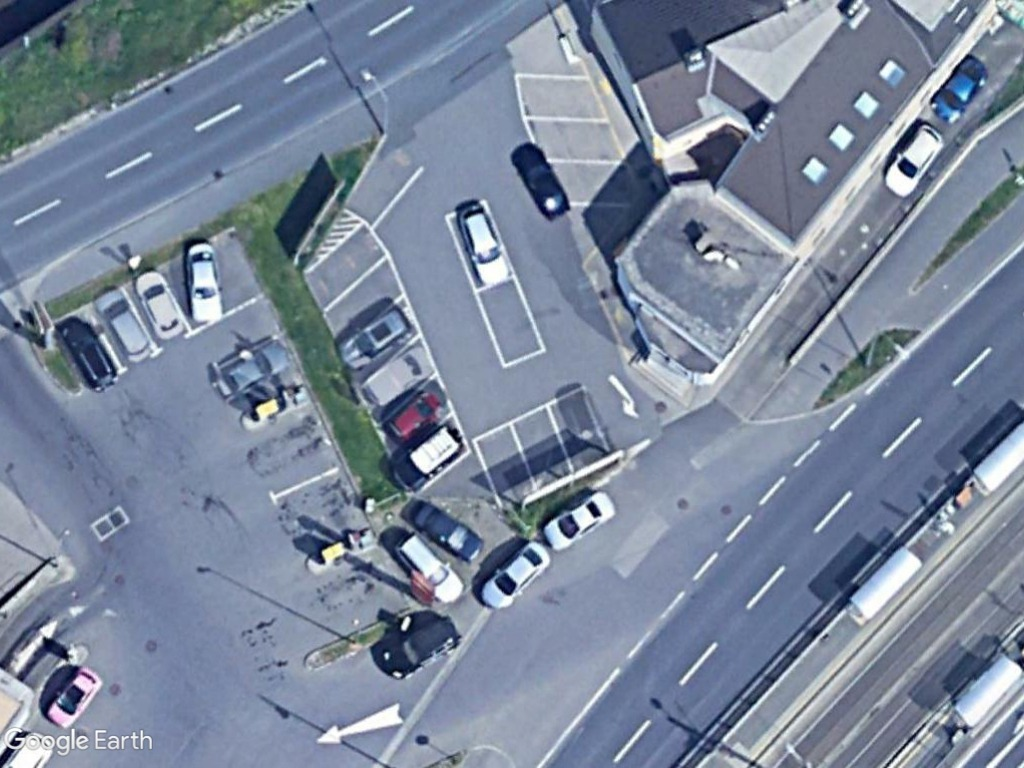car: (378, 614, 468, 680), (388, 423, 468, 495), (389, 534, 466, 606), (336, 303, 416, 372), (508, 144, 573, 227), (477, 537, 549, 611), (880, 120, 944, 200), (456, 200, 512, 291), (540, 488, 618, 552), (56, 316, 120, 394), (409, 500, 485, 565), (94, 286, 156, 364), (930, 55, 993, 127), (131, 265, 188, 342), (384, 381, 451, 444), (40, 663, 104, 728), (182, 240, 222, 329)
